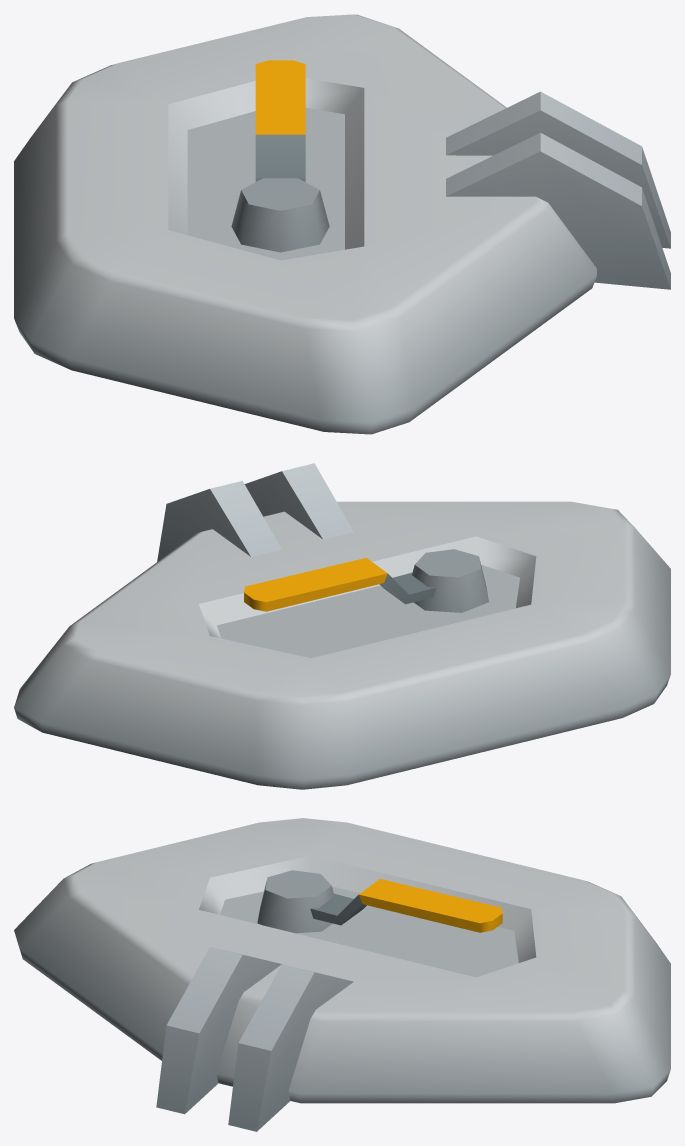
Rendered from Hatch_007_door_002.fbx.
3 views of the same model, one above another, from view 1: azimuth 30°, elevation 25°; view 2: azimuth 150°, elevation 25°; view 3: azimuth 270°, elevation 25° (orthographic). The views are drawn at different scales.
Visible parts, largest first — view 1: Hatch_007_door_002; view 2: Hatch_007_door_002; view 3: Hatch_007_door_002.
Part boxes in pixels (x1,y1,x2,y2): Hatch_007_door_002: (14, 14, 670, 434); Hatch_007_door_002: (14, 463, 670, 789); Hatch_007_door_002: (14, 818, 670, 1131).
Size of the model in its own units: 70.76 by 76.8 by 15.71.
